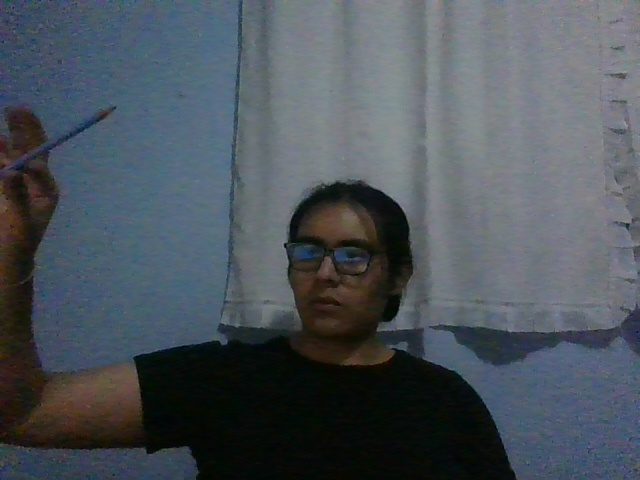lapiz: (1, 105, 118, 175)
